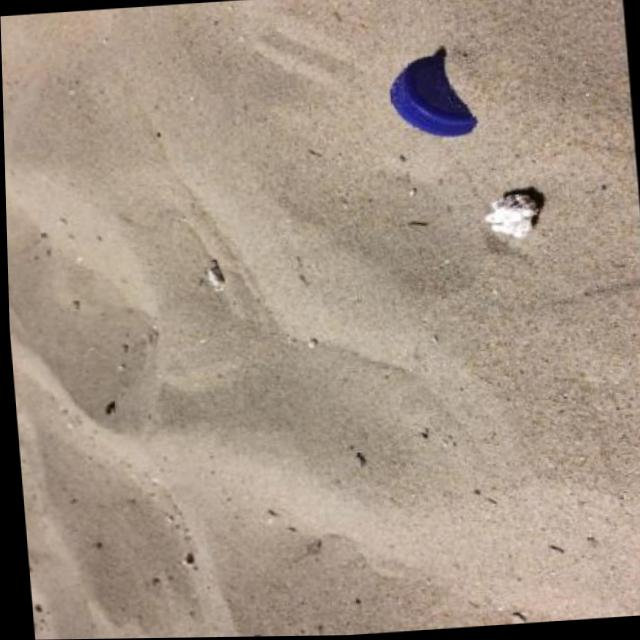foam: (482, 193, 543, 240)
plastic: (389, 52, 481, 141)
